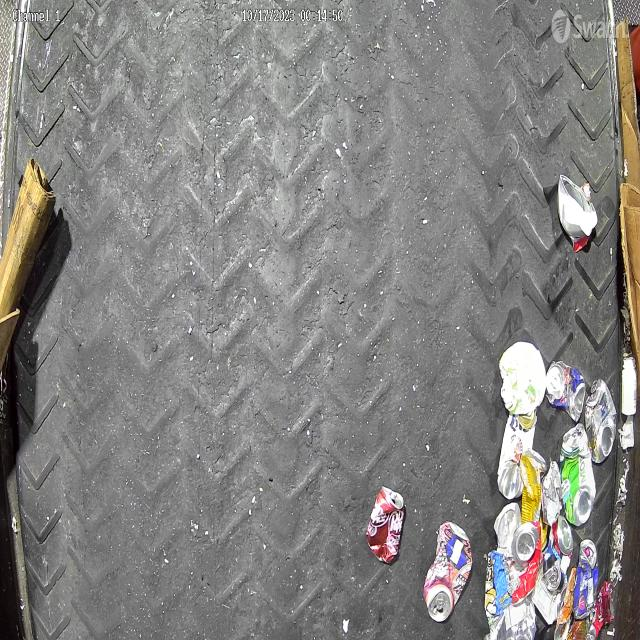can: (423, 521, 472, 623), (560, 423, 596, 527), (496, 408, 536, 501), (503, 521, 541, 606), (366, 486, 405, 566), (520, 448, 547, 552), (585, 379, 617, 464), (546, 360, 585, 423), (574, 540, 599, 620), (489, 600, 537, 640), (585, 580, 614, 640), (547, 515, 573, 574), (494, 502, 521, 554), (542, 556, 565, 594)
